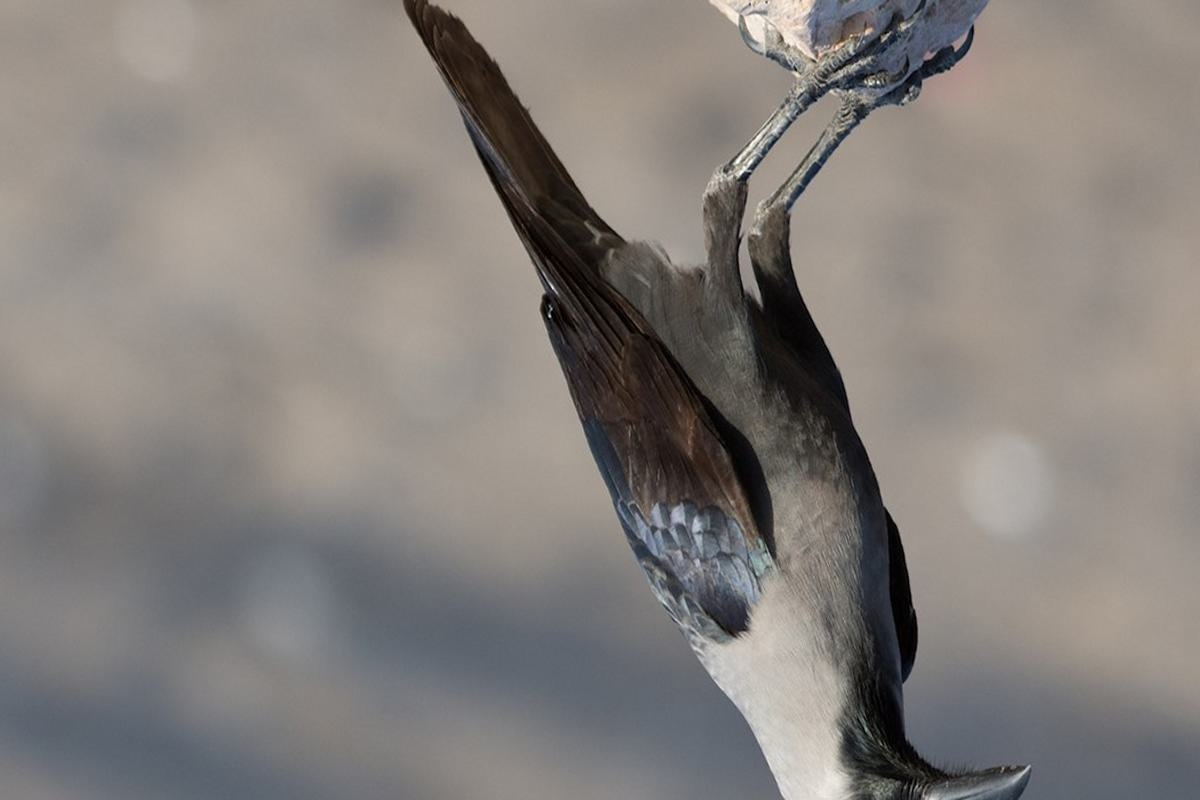crow: (398, 15, 1063, 800)
